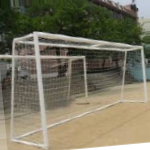goals: (7, 29, 150, 149)
